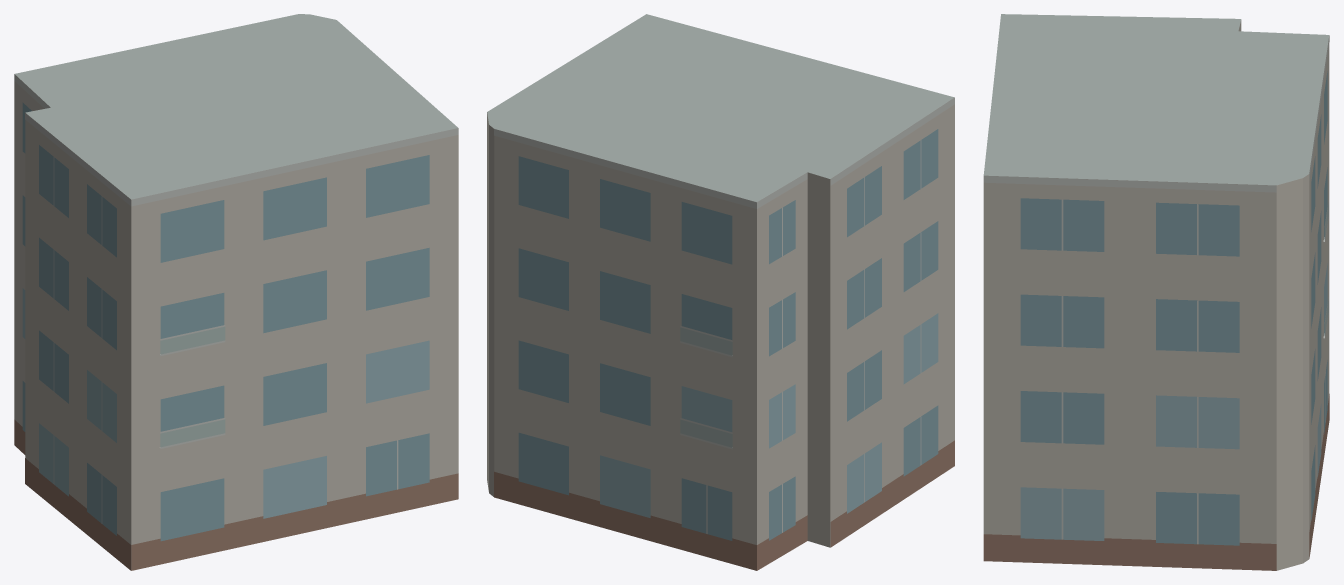
File: survey-upis-32819313.glb
The picture shows the model from 3 angles, left to right: view 1: azimuth 30°, elevation 25°; view 2: azimuth 150°, elevation 25°; view 3: azimuth 270°, elevation 25°; orthographic projection. The views are drawn at different scales.
Visible parts, largest first — view 1: survey-upis-32819313.tmp; view 2: survey-upis-32819313.tmp; view 3: survey-upis-32819313.tmp.
Part boxes in pixels (<box>): survey-upis-32819313.tmp: <box>14,14,458,570</box>; survey-upis-32819313.tmp: <box>487,14,954,570</box>; survey-upis-32819313.tmp: <box>983,14,1329,570</box>.
Size of the model in its own units: 12.59 by 13.19 by 10.73.
